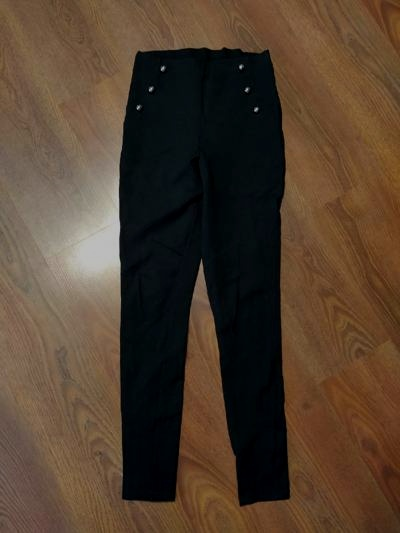Pants: (76, 46, 316, 515)
